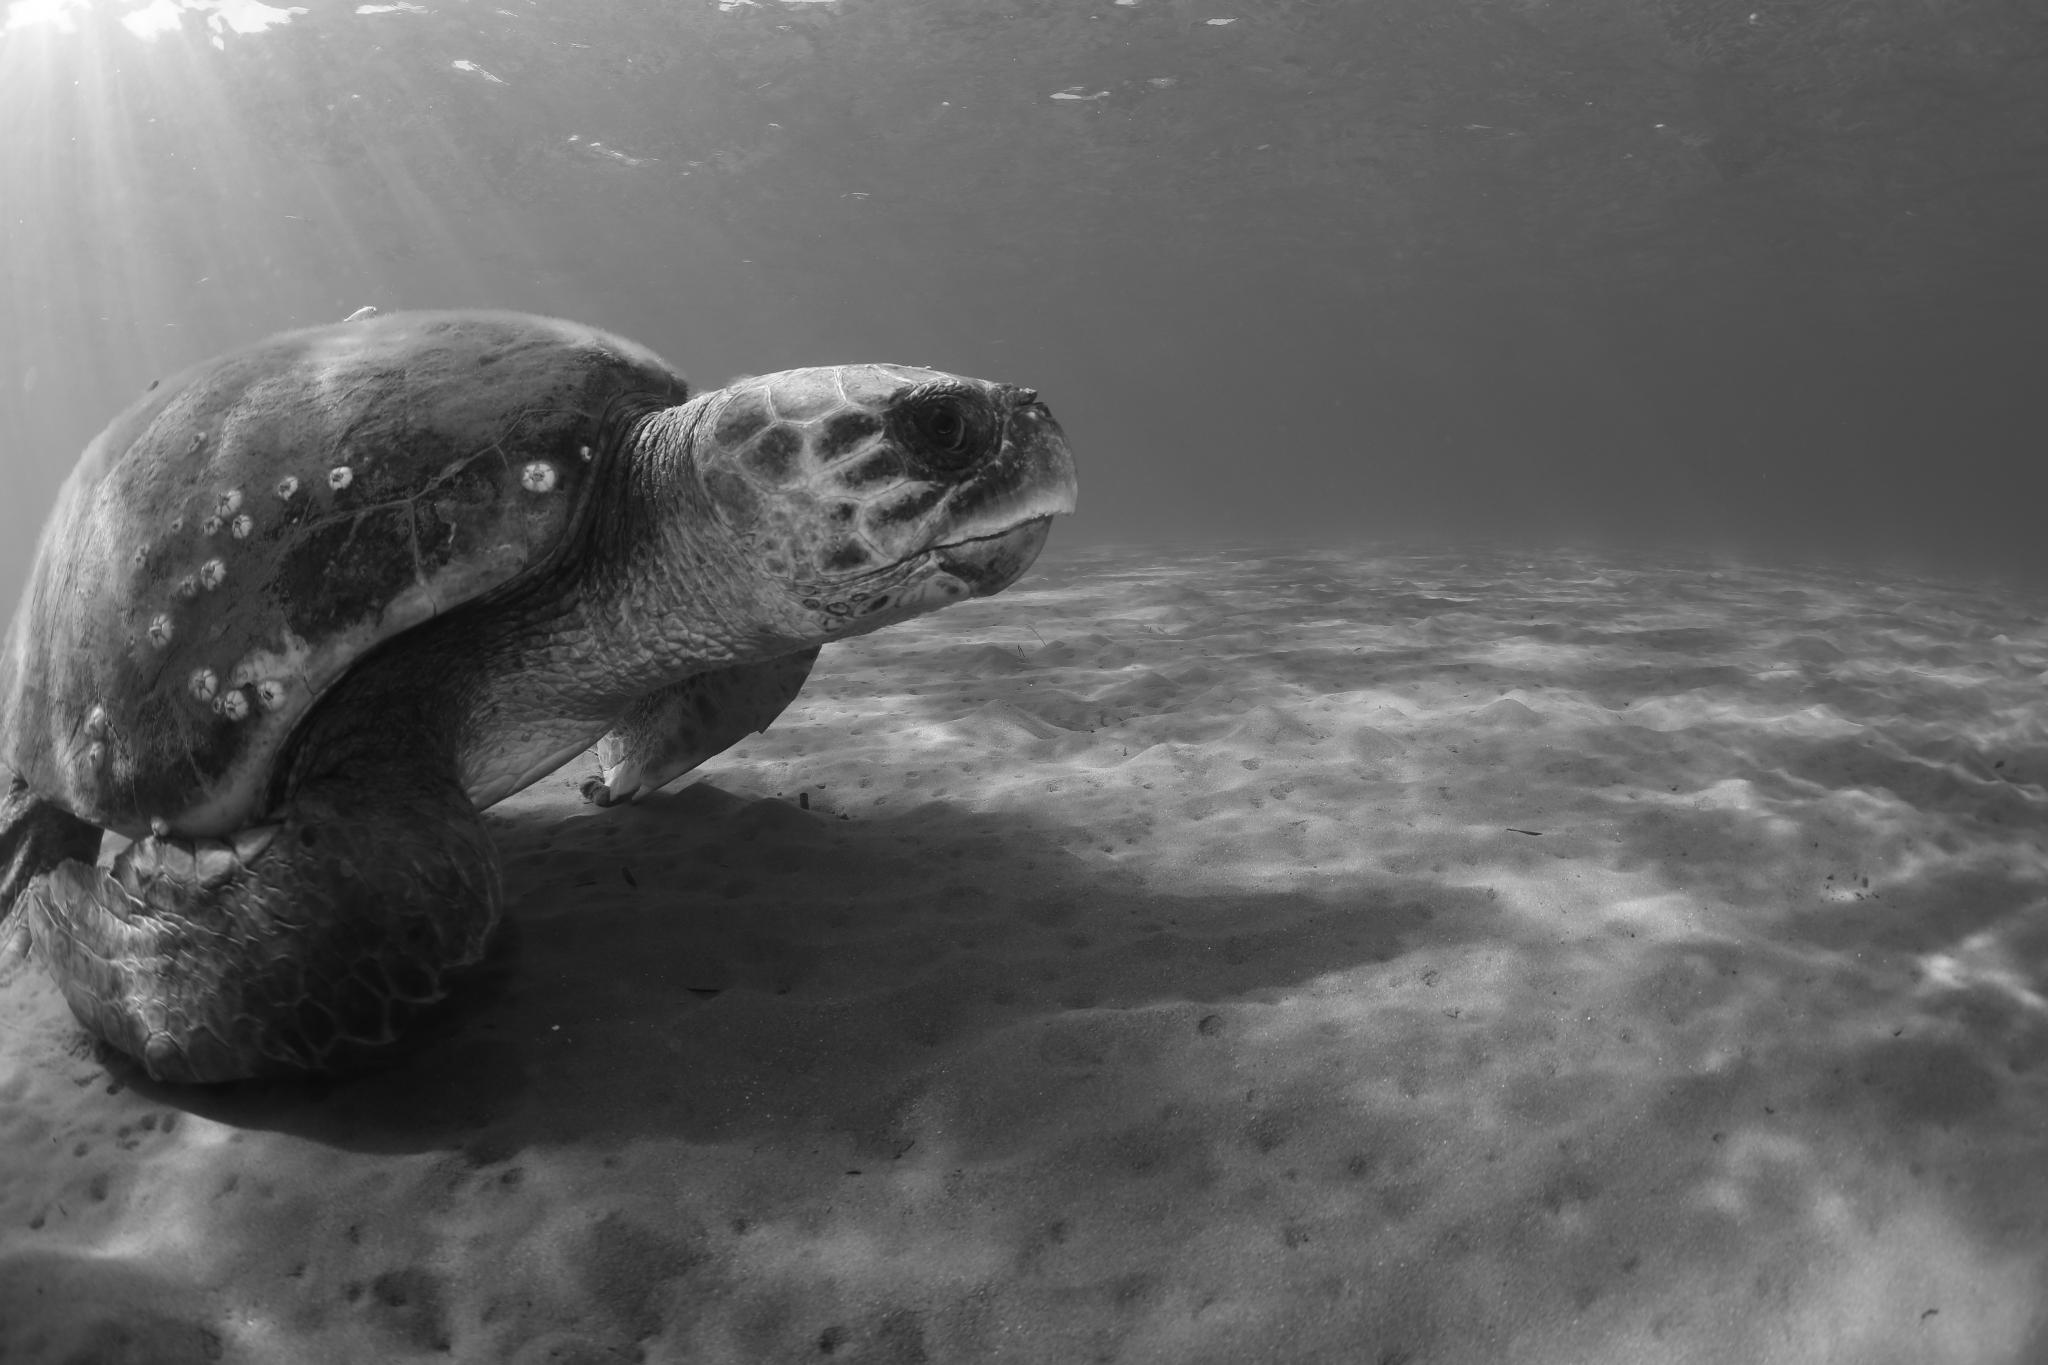Head: (649, 365, 1077, 673)
